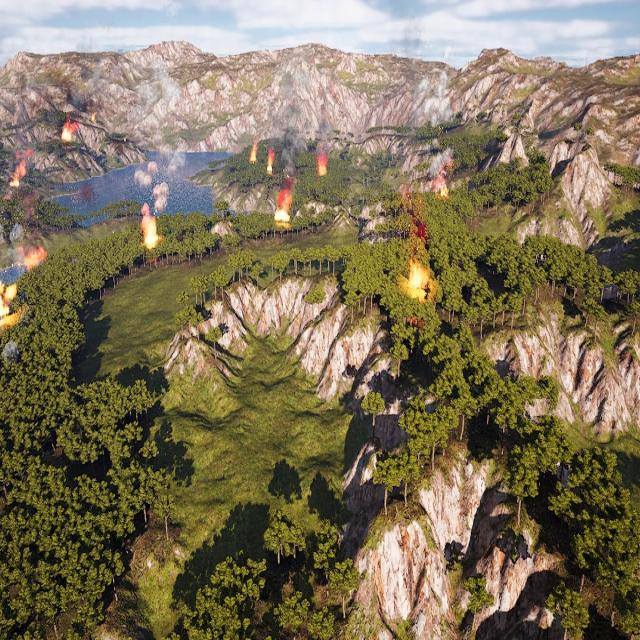fire: (9, 148, 32, 188), (0, 279, 17, 326), (409, 264, 429, 292), (24, 246, 47, 269), (142, 215, 158, 248), (276, 198, 292, 224), (62, 124, 75, 142), (438, 182, 450, 198), (268, 150, 276, 173), (317, 161, 327, 176), (250, 146, 257, 162)
smoke: (134, 56, 184, 213), (413, 71, 453, 187), (277, 132, 299, 204), (319, 115, 334, 158)
